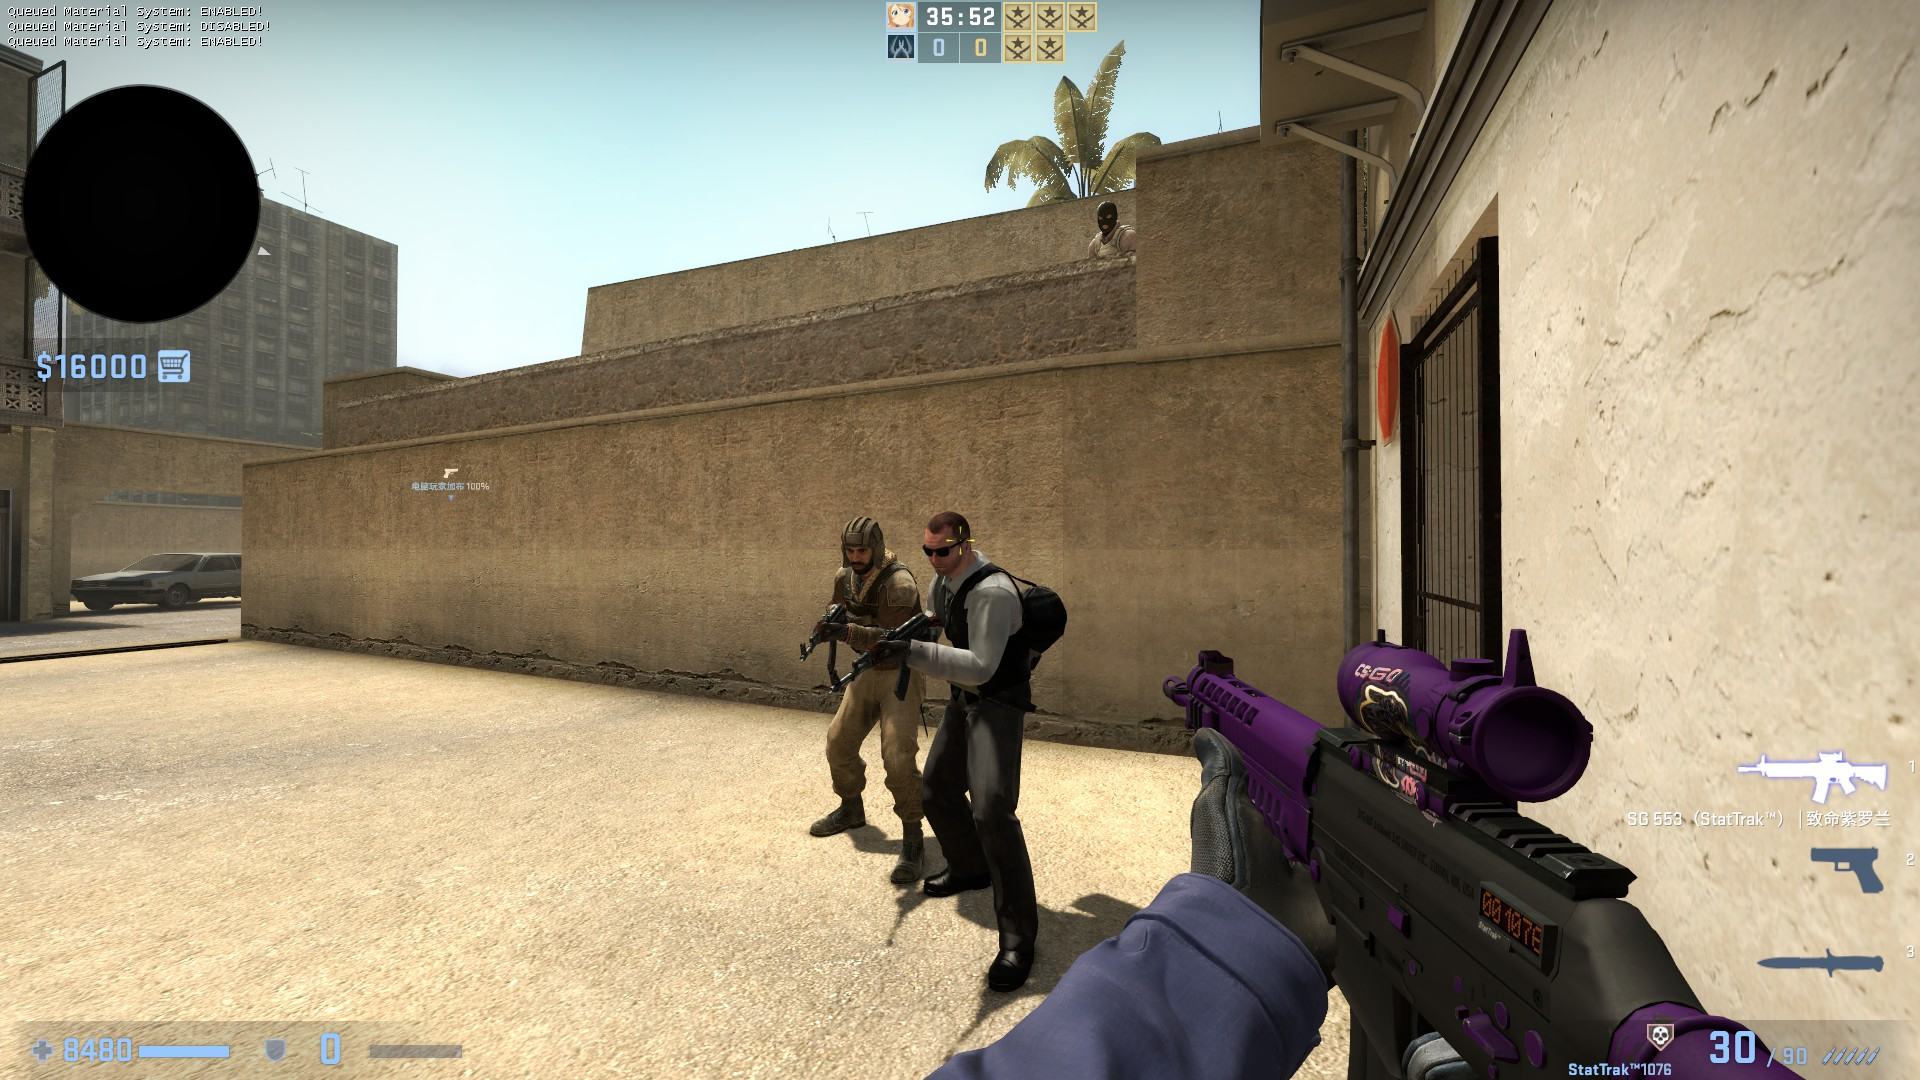head: (918, 510, 974, 575), (837, 512, 882, 575), (1093, 200, 1116, 237)
